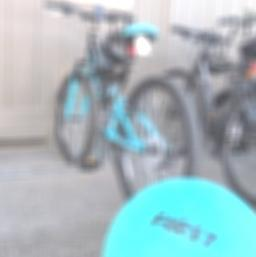algae: (103, 177, 256, 257)
